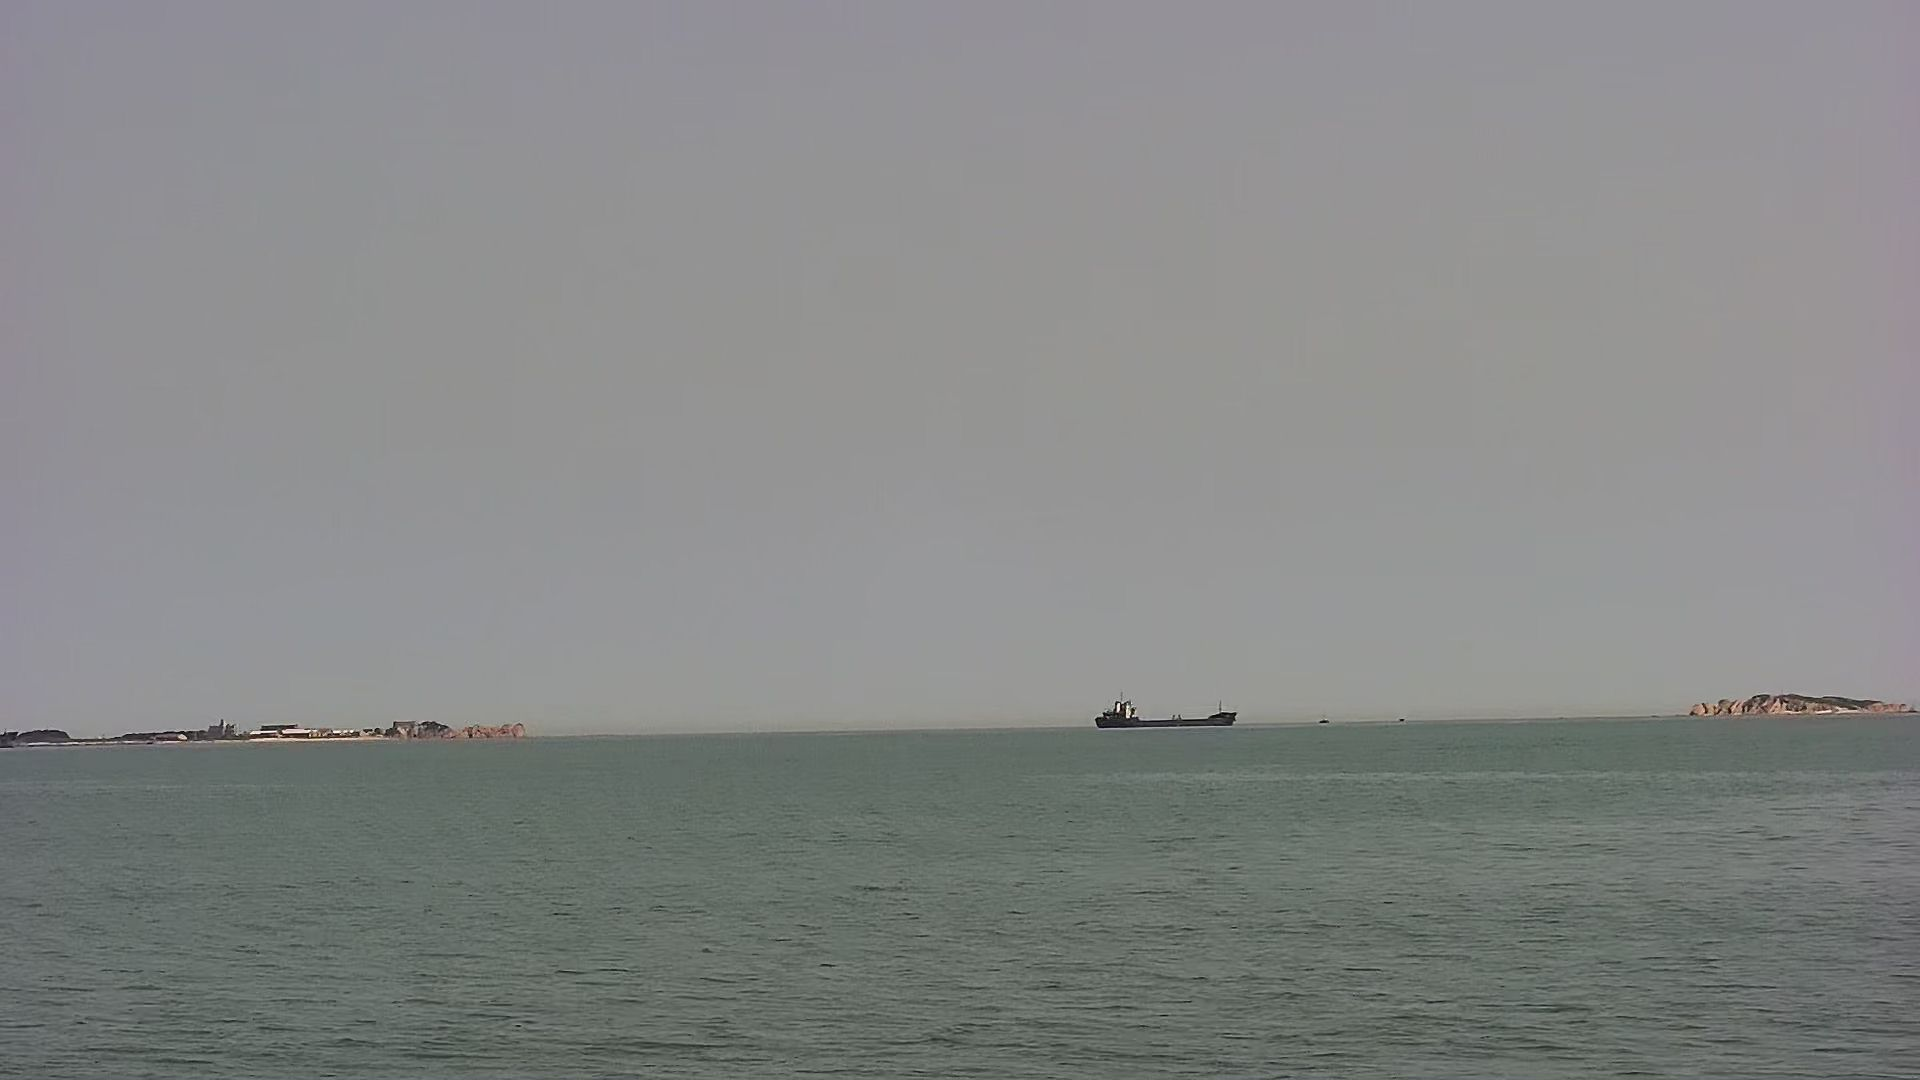rock: (1, 711, 530, 750), (1675, 690, 1920, 717)
ship: (1084, 690, 1240, 731)
